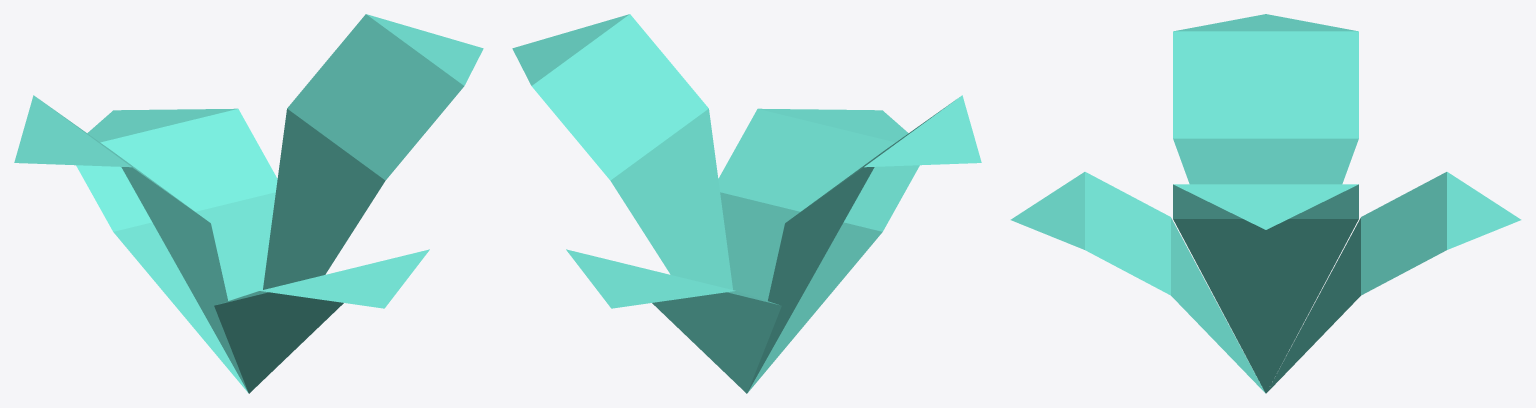
File: plant_bush.gltf
3 renders of one model, left to right at view 1: azimuth 30°, elevation 25°; view 2: azimuth 150°, elevation 25°; view 3: azimuth 270°, elevation 25°, orthographic. The views are drawn at different scales.
Visible parts, largest first — view 1: plant_bush; view 2: plant_bush; view 3: plant_bush.
Boxes of the visible parts, bbox=[...] form: plant_bush: bbox=[14, 14, 483, 393]; plant_bush: bbox=[512, 14, 981, 393]; plant_bush: bbox=[1010, 14, 1521, 393].
Size of the model in its own units: 0.396 by 0.2444 by 0.396.
